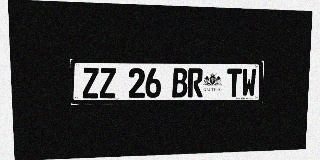2: (129, 68, 145, 98)
6: (145, 68, 161, 98)
B: (172, 68, 187, 97)
R: (188, 68, 203, 97)
T: (227, 68, 242, 97)
W: (241, 69, 256, 97)
Z: (82, 68, 99, 98), (99, 68, 116, 98)
